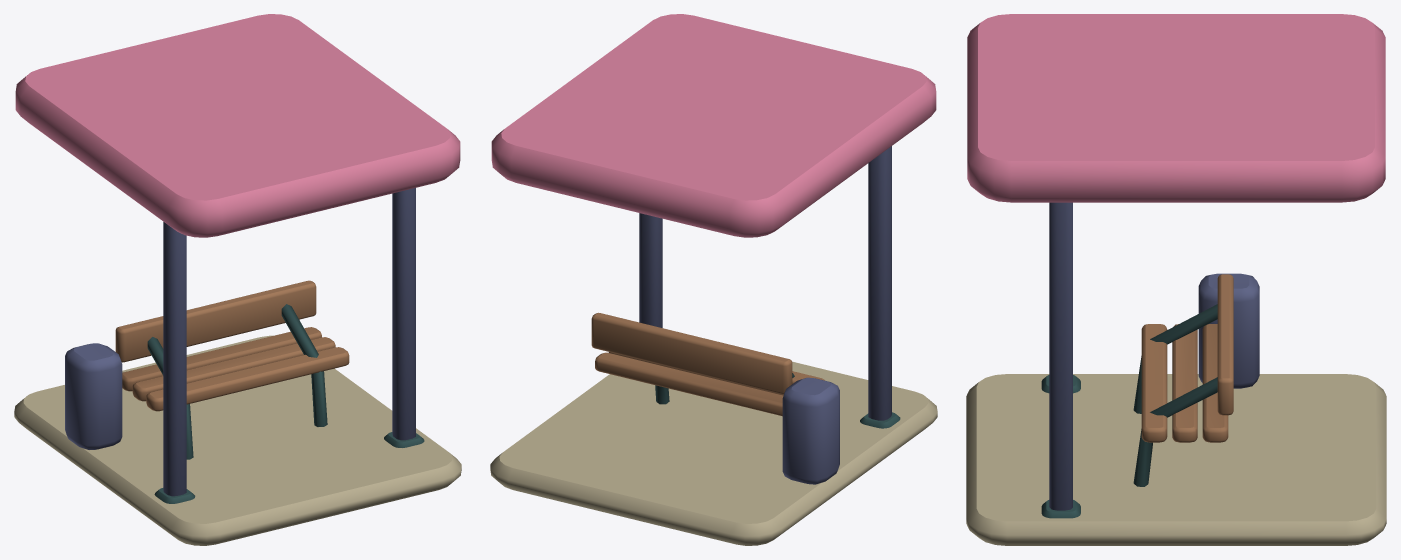
File: japan_parking_2.glb
The picture shows the model from 3 angles, left to right: view 1: azimuth 30°, elevation 25°; view 2: azimuth 150°, elevation 25°; view 3: azimuth 270°, elevation 25°; orthographic projection. The views are drawn at different scales.
Visible parts, largest first — view 1: JapanParking2; view 2: JapanParking2; view 3: JapanParking2.
Part boxes in pixels (x1,y1,x2,y2): JapanParking2: (14,14,461,545); JapanParking2: (490,14,937,545); JapanParking2: (966,14,1386,545).
Size of the model in its own units: 2.18 by 2.51 by 2.48.
